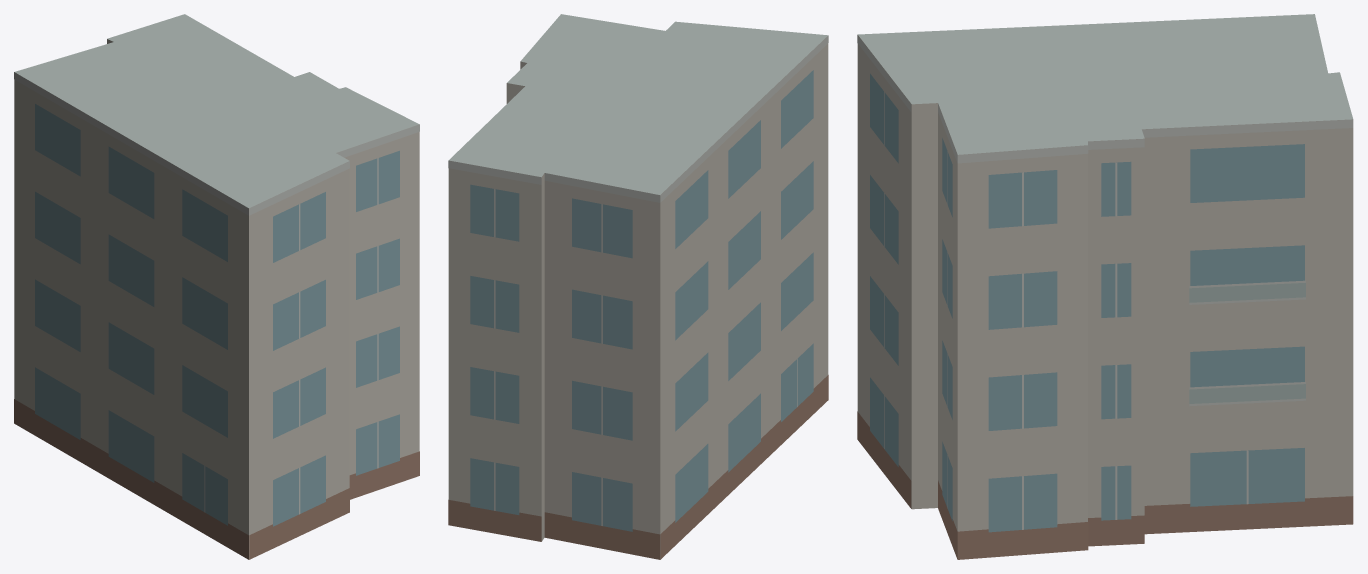
The model's file is survey-upis-32470900.glb.
3 renders of one model, left to right at view 1: azimuth 30°, elevation 25°; view 2: azimuth 150°, elevation 25°; view 3: azimuth 270°, elevation 25°, orthographic. The views are drawn at different scales.
Parts seen in each view (by area): view 1: survey-upis-32470900.tmp; view 2: survey-upis-32470900.tmp; view 3: survey-upis-32470900.tmp.
Boxes of the visible parts, box(x1,y1,x2,y2) form: survey-upis-32470900.tmp: box(14, 14, 419, 559); survey-upis-32470900.tmp: box(448, 14, 828, 559); survey-upis-32470900.tmp: box(857, 14, 1353, 559).
Bounding box in the file's own units: 8.59 × 11.5 × 12.77.
